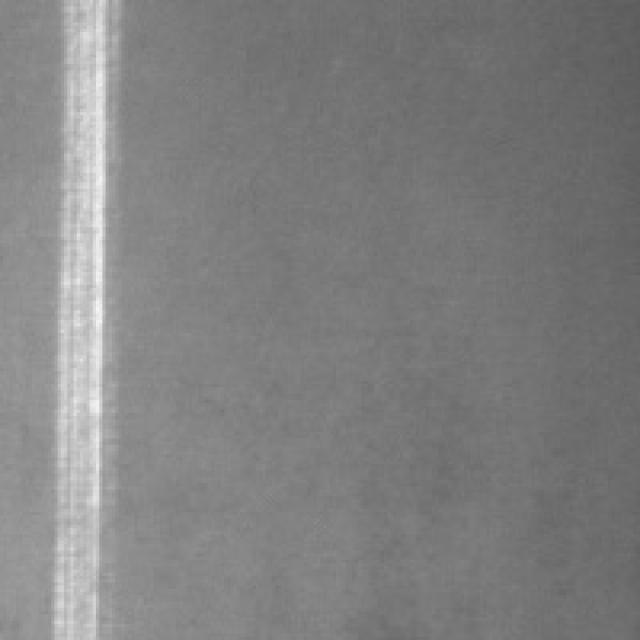scratches: (35, 0, 122, 634)
